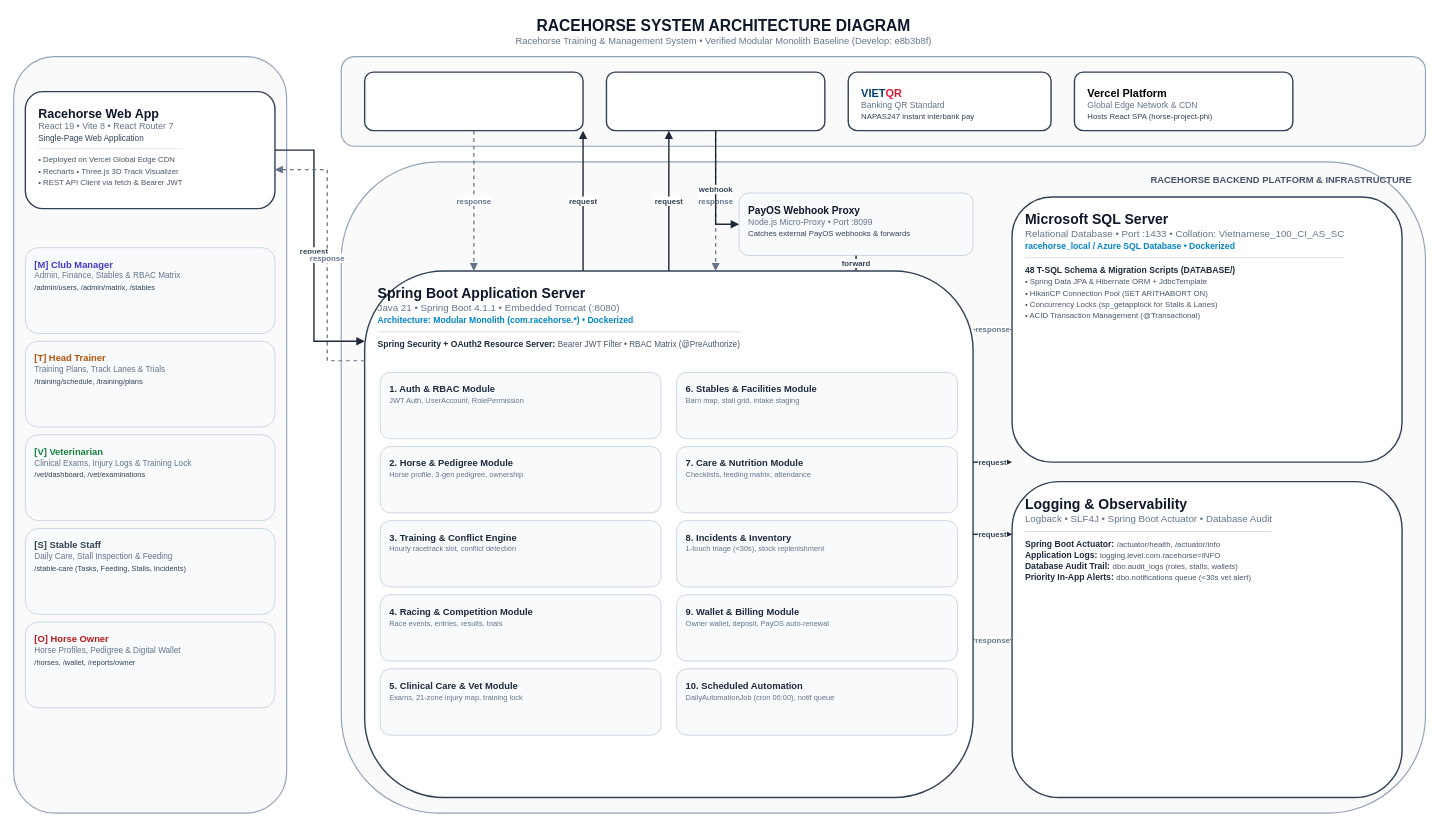
The diagram is 1440 pixels wide and 827 high, and some of its shapes have lost their labels. Each missing label, with the box of its shape:
CLIENT APPLICATIONS: (13, 56, 287, 813)
Cloudinary Cloud Media & File Storage Photos, medical files, task proof: (364, 71, 583, 131)
payOS (by CASSO) Payment Gateway & Webhooks VietQR generation & deposit flow: (605, 71, 825, 131)
THIRD PARTIES & CLOUD SERVICES: (340, 56, 1426, 146)
